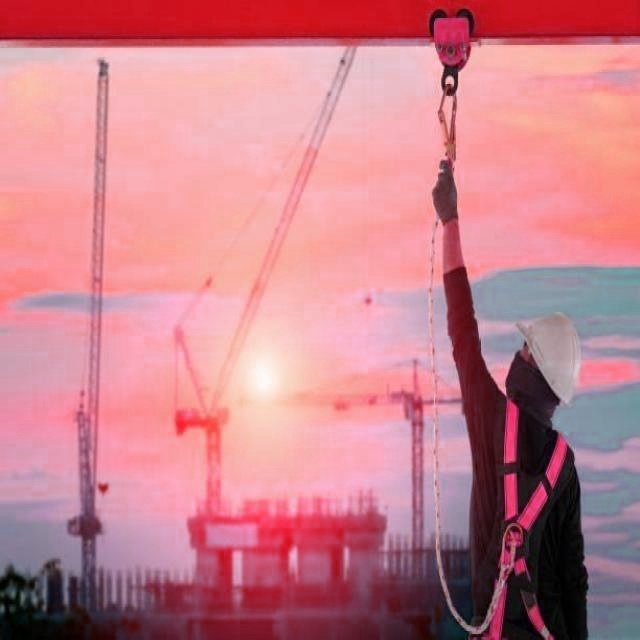safety belt: (469, 382, 576, 635)
